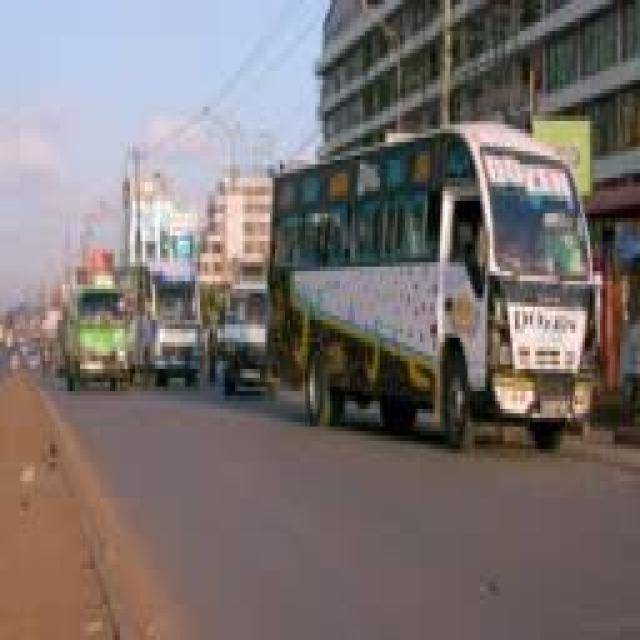bus: (293, 98, 613, 460), (154, 242, 207, 422)
matatu: (44, 262, 146, 430), (221, 273, 270, 415)
